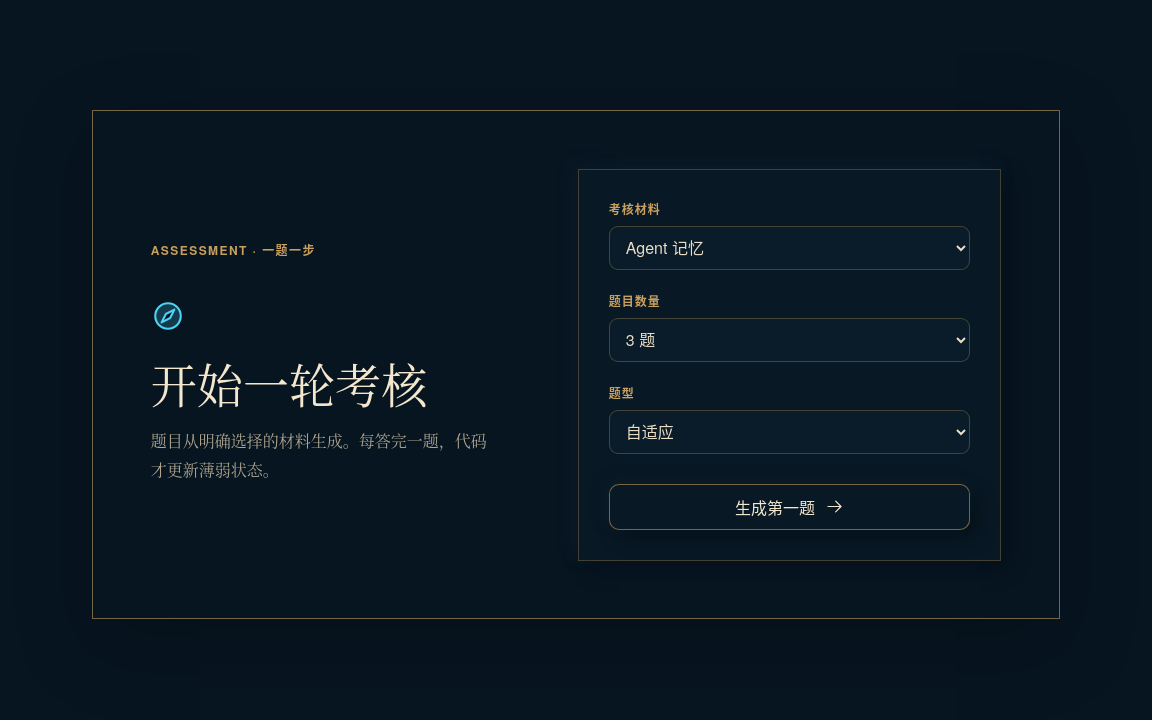
Scenario: Assessment Workspace › explains when the selected material has no assessable knowledge
Expected: the heading "开始一轮考核" is shown, [151,350,427,416]
Click the button "生成第一题" at (790, 507), box [609,484,970,530]
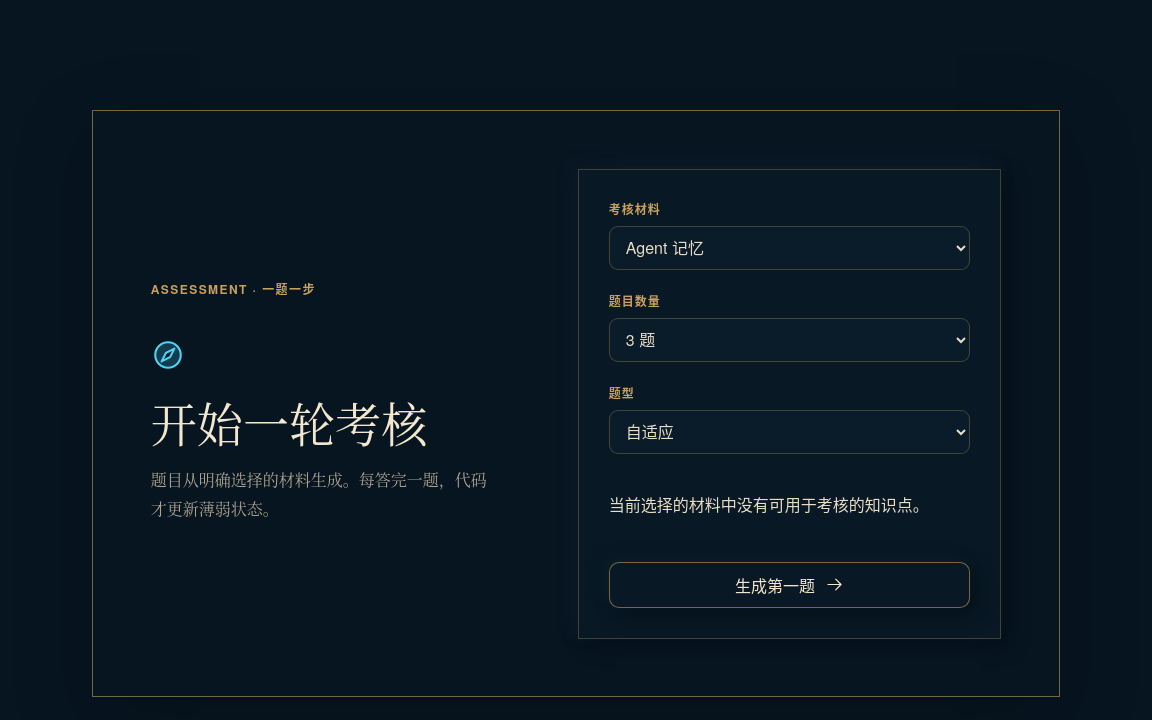
Expected: the message reads "当前选择的材料中没有可用于考核的知识点。", [609,493,929,516]
